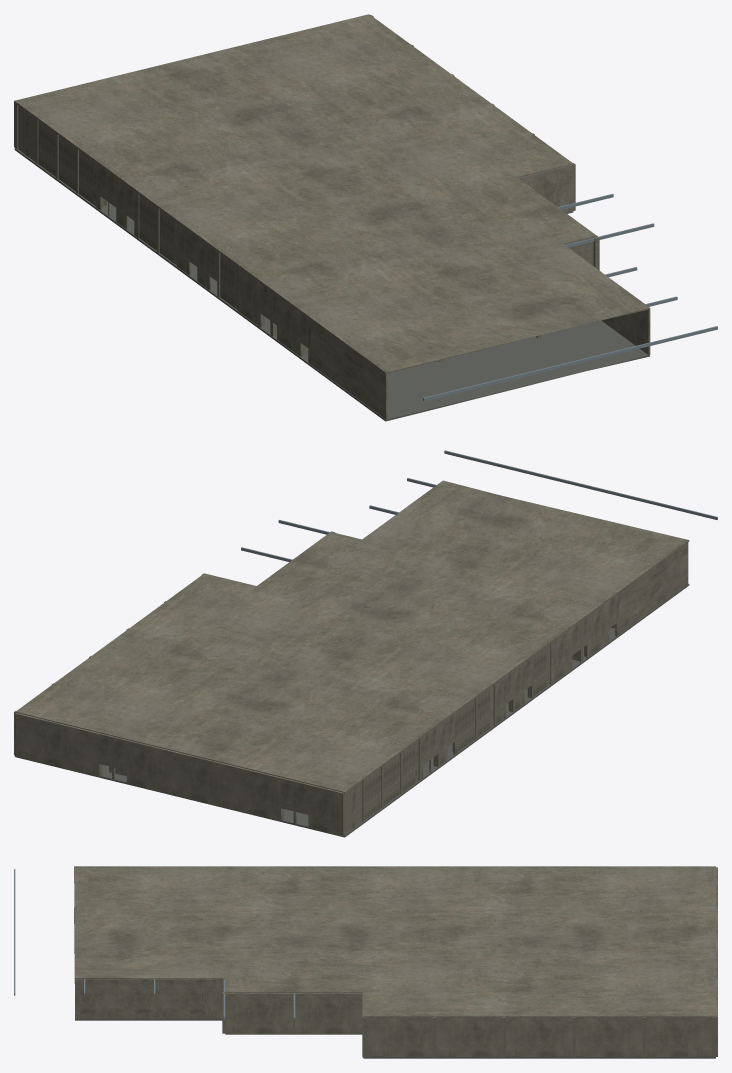
File: preview.glb
3 views of the same model, one above another, from view 1: azimuth 30°, elevation 25°; view 2: azimuth 150°, elevation 25°; view 3: azimuth 270°, elevation 25° (orthographic). The views are drawn at different scales.
Visible parts, largest first — view 1: Floor_Concrete_used.001_glb, Walls_Concrete_used.001_glb, Floor_Procedural_Polished_Concrete.001_glb, Beams_Existing_beams_graphite.001_glb; view 2: Floor_Concrete_used.001_glb, Walls_Concrete_used.001_glb, Floor_Procedural_Polished_Concrete.001_glb, Beams_Existing_beams_graphite.001_glb; view 3: Floor_Concrete_used.001_glb, Walls_Concrete_used.001_glb, Columns_Concrete_used.001_glb, Floor_Procedural_Polished_Concrete.001_glb, Beams_Existing_beams_graphite.001_glb.
Boxes of the visible parts, x1,y1,x2,y2 form: Floor_Concrete_used.001_glb: [14, 14, 649, 374]; Walls_Concrete_used.001_glb: [14, 14, 650, 419]; Floor_Procedural_Polished_Concrete.001_glb: [14, 148, 649, 421]; Beams_Existing_beams_graphite.001_glb: [423, 194, 717, 401]; Floor_Concrete_used.001_glb: [15, 480, 689, 793]; Walls_Concrete_used.001_glb: [14, 533, 688, 836]; Floor_Procedural_Polished_Concrete.001_glb: [15, 584, 689, 837]; Beams_Existing_beams_graphite.001_glb: [241, 450, 717, 561]; Floor_Concrete_used.001_glb: [74, 866, 715, 1017]; Walls_Concrete_used.001_glb: [75, 867, 717, 1056]; Columns_Concrete_used.001_glb: [222, 992, 715, 1057]; Floor_Procedural_Polished_Concrete.001_glb: [74, 907, 715, 1058]; Beams_Existing_beams_graphite.001_glb: [14, 869, 295, 1019].
Size of the model in its own units: 52.49 by 6.89 by 104.
Materials: 5 (3 with a texture image).
